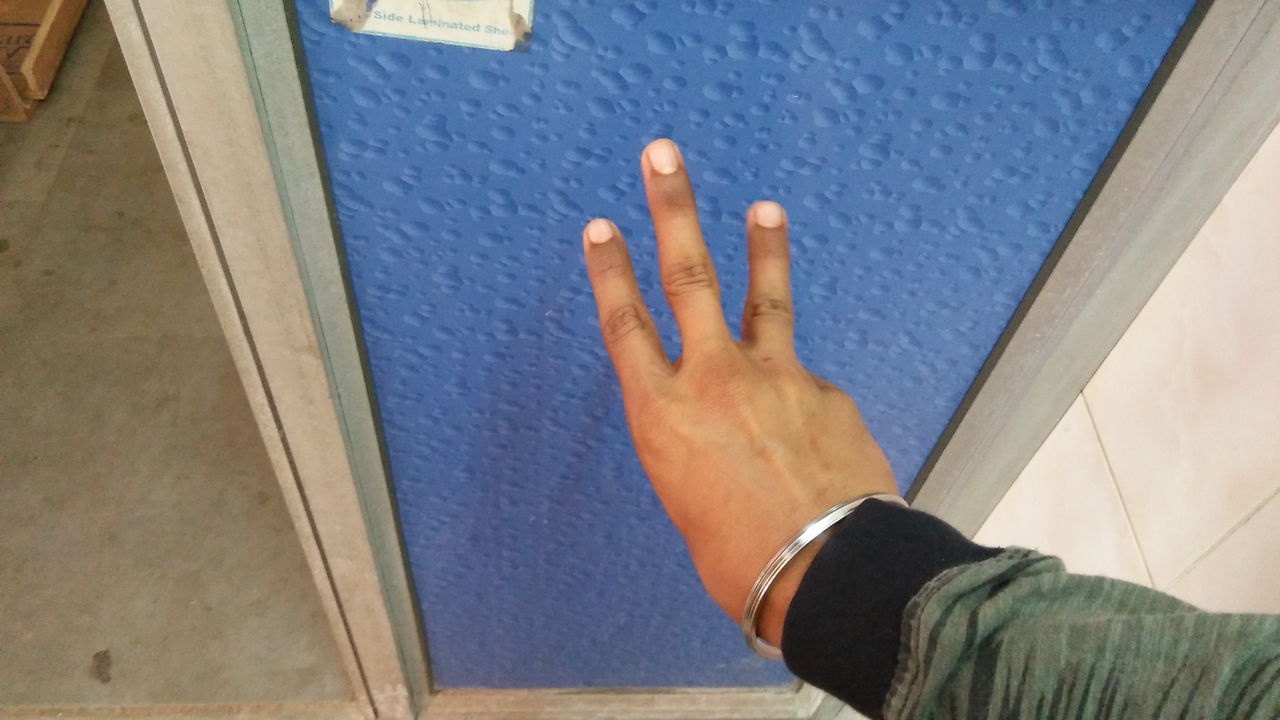fingertip: (628, 128, 702, 184), (570, 204, 628, 262), (740, 188, 798, 240)
